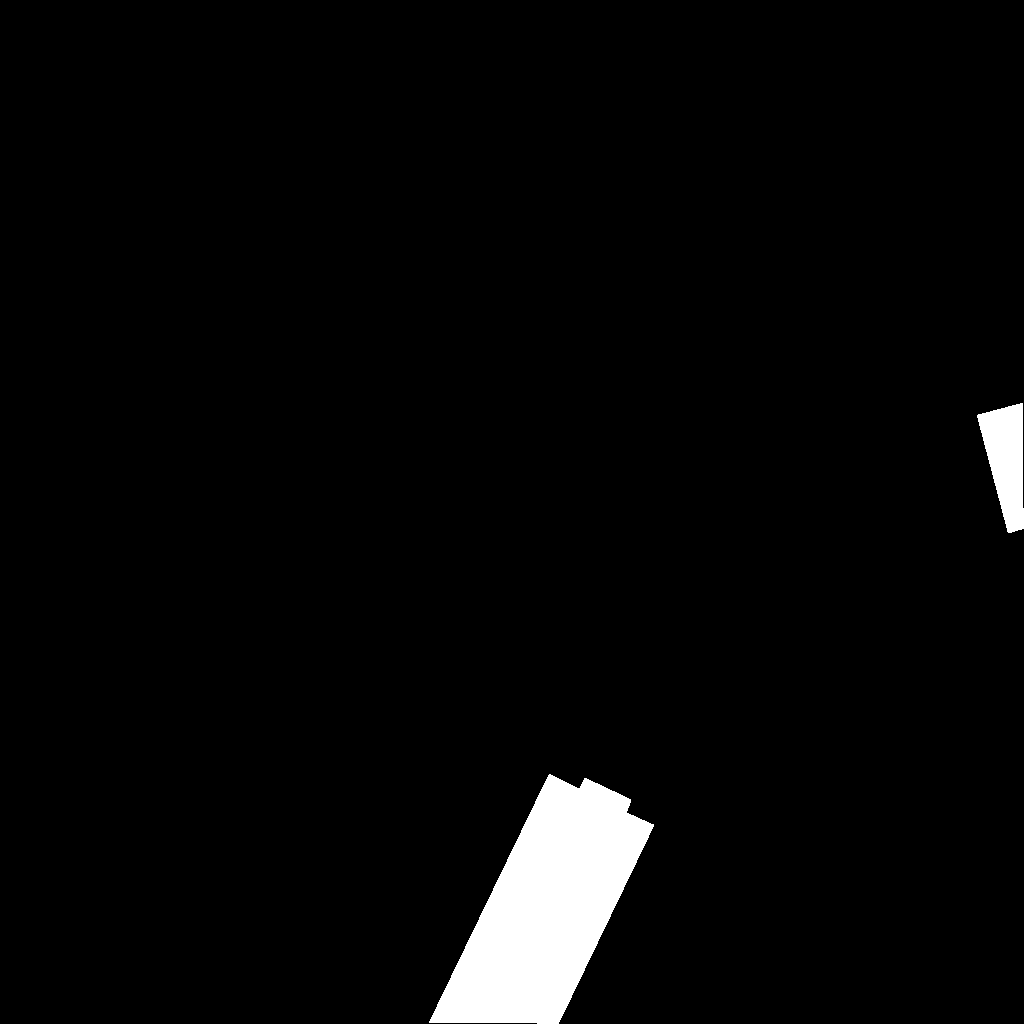building: (429, 774, 655, 1024), (977, 403, 1024, 534)
